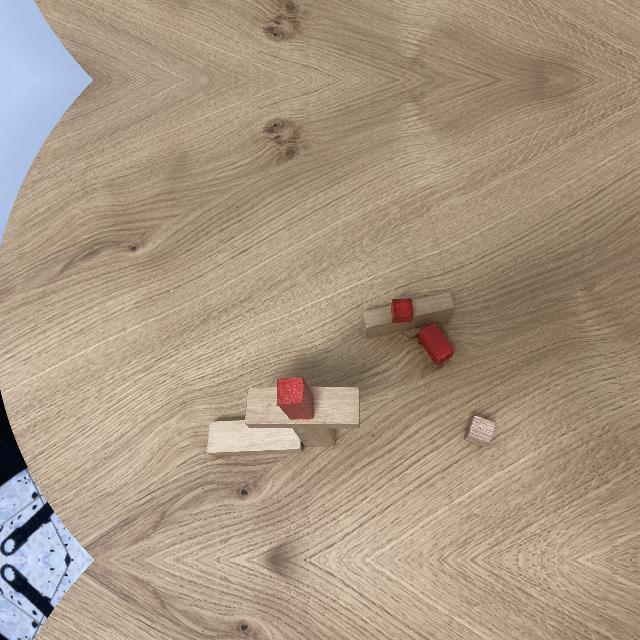cube: (466, 417, 496, 448)
jenga: (245, 388, 361, 426), (362, 292, 456, 338), (208, 419, 302, 457), (294, 419, 332, 448)
red block: (276, 374, 312, 420), (418, 324, 452, 362)
red cube: (390, 297, 412, 325)
